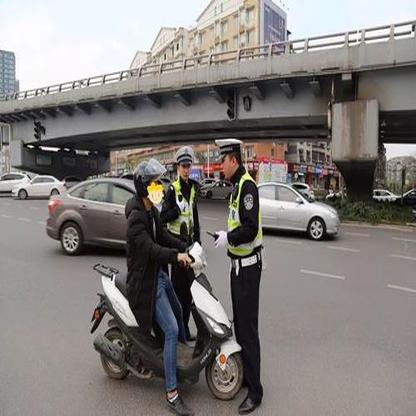target: (81, 157, 243, 401)
